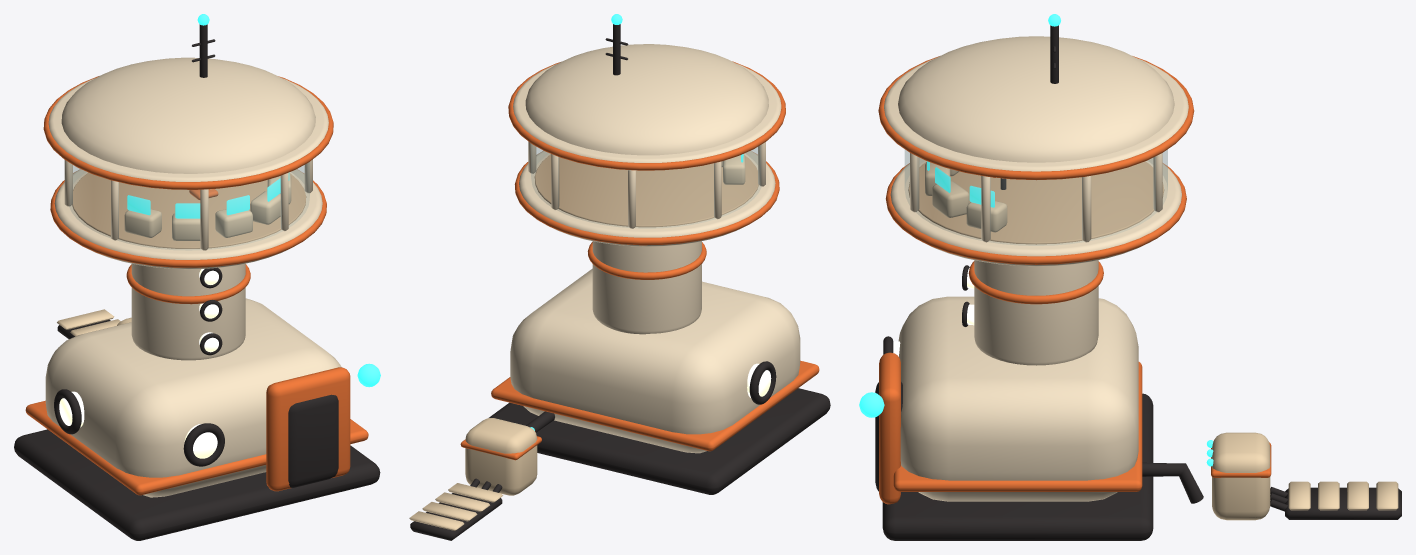
The model's file is dispatch.glb.
3 renders of one model, left to right at view 1: azimuth 30°, elevation 25°; view 2: azimuth 150°, elevation 25°; view 3: azimuth 270°, elevation 25°, orthographic. The views are drawn at different scales.
Parts seen in each view (by area): view 1: Cube.001, Cube, Cube.002, Cylinder.007, Cylinder.008, Cube.013, Cube.014, Cylinder; view 2: Cube.001, Cube, Cylinder.007, Cube.002, Cylinder.008, Cube.013; view 3: Cube.001, Cube, Cube.002, Cylinder.007, Cylinder.008, Cube.013, Cube.014.
Boxes of the visible parts, x1,y1,x2,y2 form: Cube.001: (45,57,341,497); Cube: (14,24,380,540); Cube.002: (25,76,368,495); Cylinder.007: (69,162,309,250); Cylinder.008: (72,172,306,248); Cube.013: (57,173,291,336); Cube.014: (127,14,380,387); Cylinder: (59,269,218,458); Cube.001: (510,44,800,453); Cube: (410,24,830,540); Cylinder.007: (531,144,761,228); Cube.002: (460,61,819,460); Cylinder.008: (534,154,758,227); Cube.013: (409,155,745,530); Cube.001: (884,36,1188,501); Cube: (875,25,1401,540); Cube.002: (878,56,1271,504); Cylinder.007: (904,149,1167,245); Cylinder.008: (908,161,1164,244); Cube.013: (925,162,1398,520); Cube.014: (859,14,1213,466).
Size of the model in its own units: 0.864 by 1.44 by 1.48.
